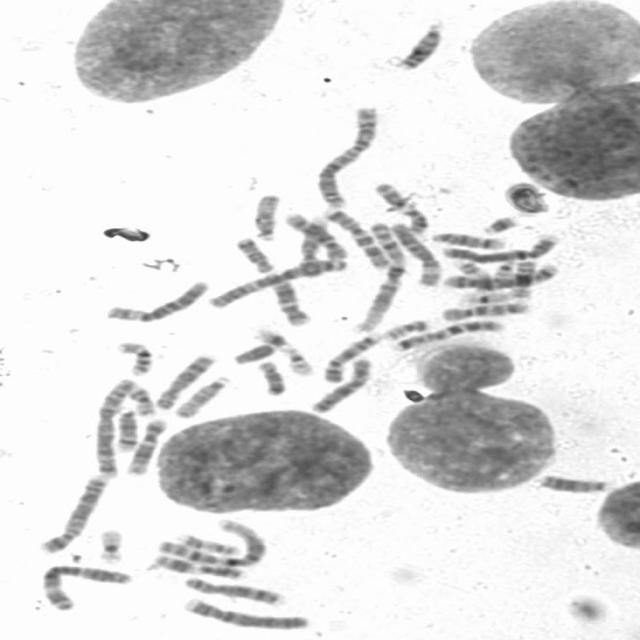A1: (353, 222, 406, 334), (156, 520, 268, 568)
A2: (313, 105, 381, 210), (93, 378, 138, 480)
A3: (207, 258, 349, 312), (40, 564, 134, 612)
B4: (181, 598, 311, 632), (438, 233, 559, 265)
B5: (37, 475, 111, 555), (440, 264, 561, 291)
C10: (283, 213, 350, 261), (437, 302, 534, 323)
C11: (372, 181, 432, 236), (153, 554, 249, 582)
C12: (263, 271, 313, 327), (125, 418, 170, 476)
C6: (103, 279, 210, 324), (389, 223, 444, 287)
C7: (321, 206, 391, 272), (392, 320, 504, 352)
C8: (154, 352, 216, 411), (182, 577, 285, 606)
C9: (321, 335, 380, 385), (295, 215, 333, 279)
D13: (394, 22, 448, 72), (536, 474, 611, 493)
D14: (426, 232, 507, 250), (112, 406, 139, 453)
D15: (173, 375, 232, 420), (250, 194, 283, 242)
E16: (116, 341, 154, 378), (508, 259, 541, 299)
E17: (174, 532, 244, 557), (450, 258, 496, 292)
E18: (234, 237, 276, 274), (256, 361, 288, 397)
F19: (94, 529, 128, 565), (454, 290, 514, 308)
F20: (381, 319, 431, 341), (125, 386, 158, 417)
G21: (479, 215, 521, 236), (252, 328, 288, 350)
G22: (285, 348, 315, 376), (491, 258, 516, 290)
X: (308, 358, 375, 415)
Y: (230, 344, 278, 366)
